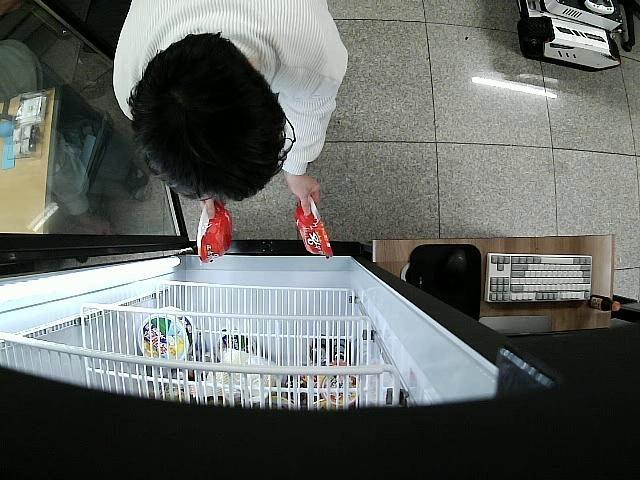10_wangTtukkeong: (298, 194, 336, 261), (196, 200, 233, 268)
